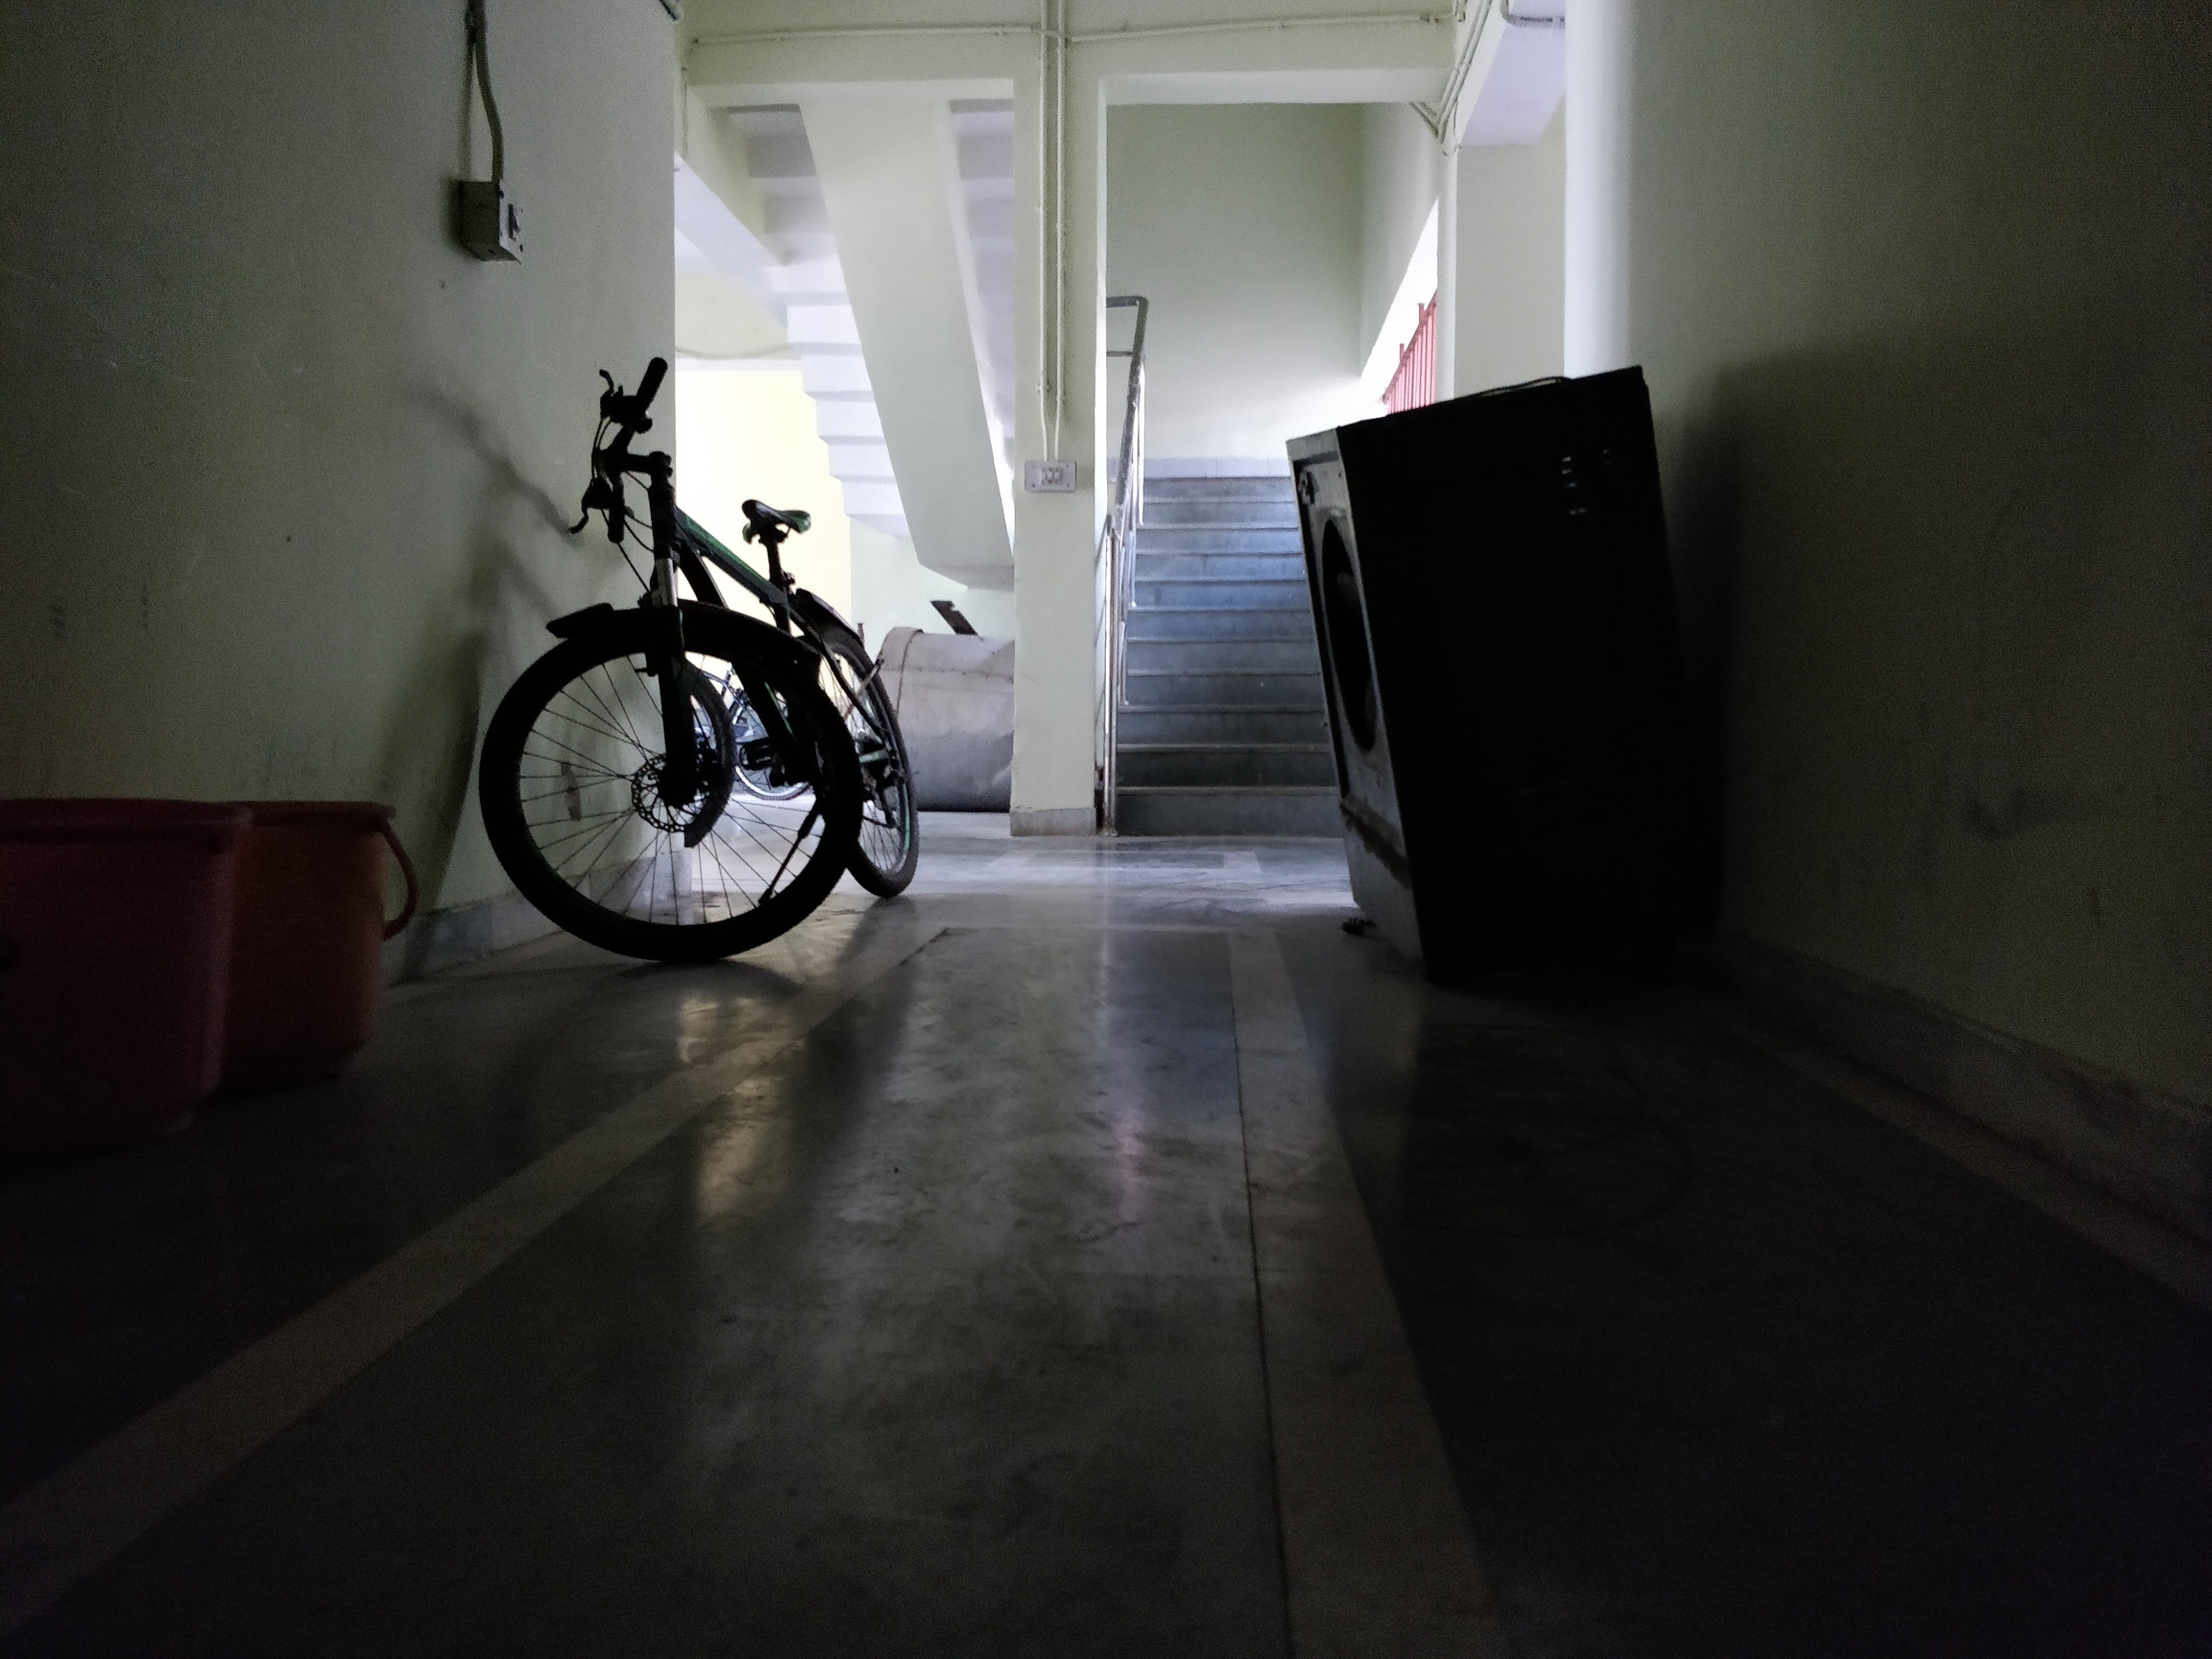stairs_up: (1103, 477, 1336, 852)
